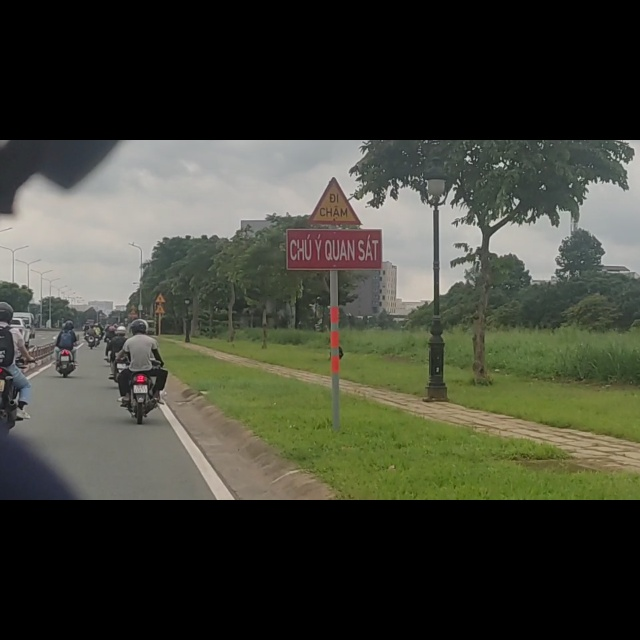bien_nguy_hiem: (309, 65, 363, 149), (154, 269, 167, 289), (155, 292, 166, 308)
